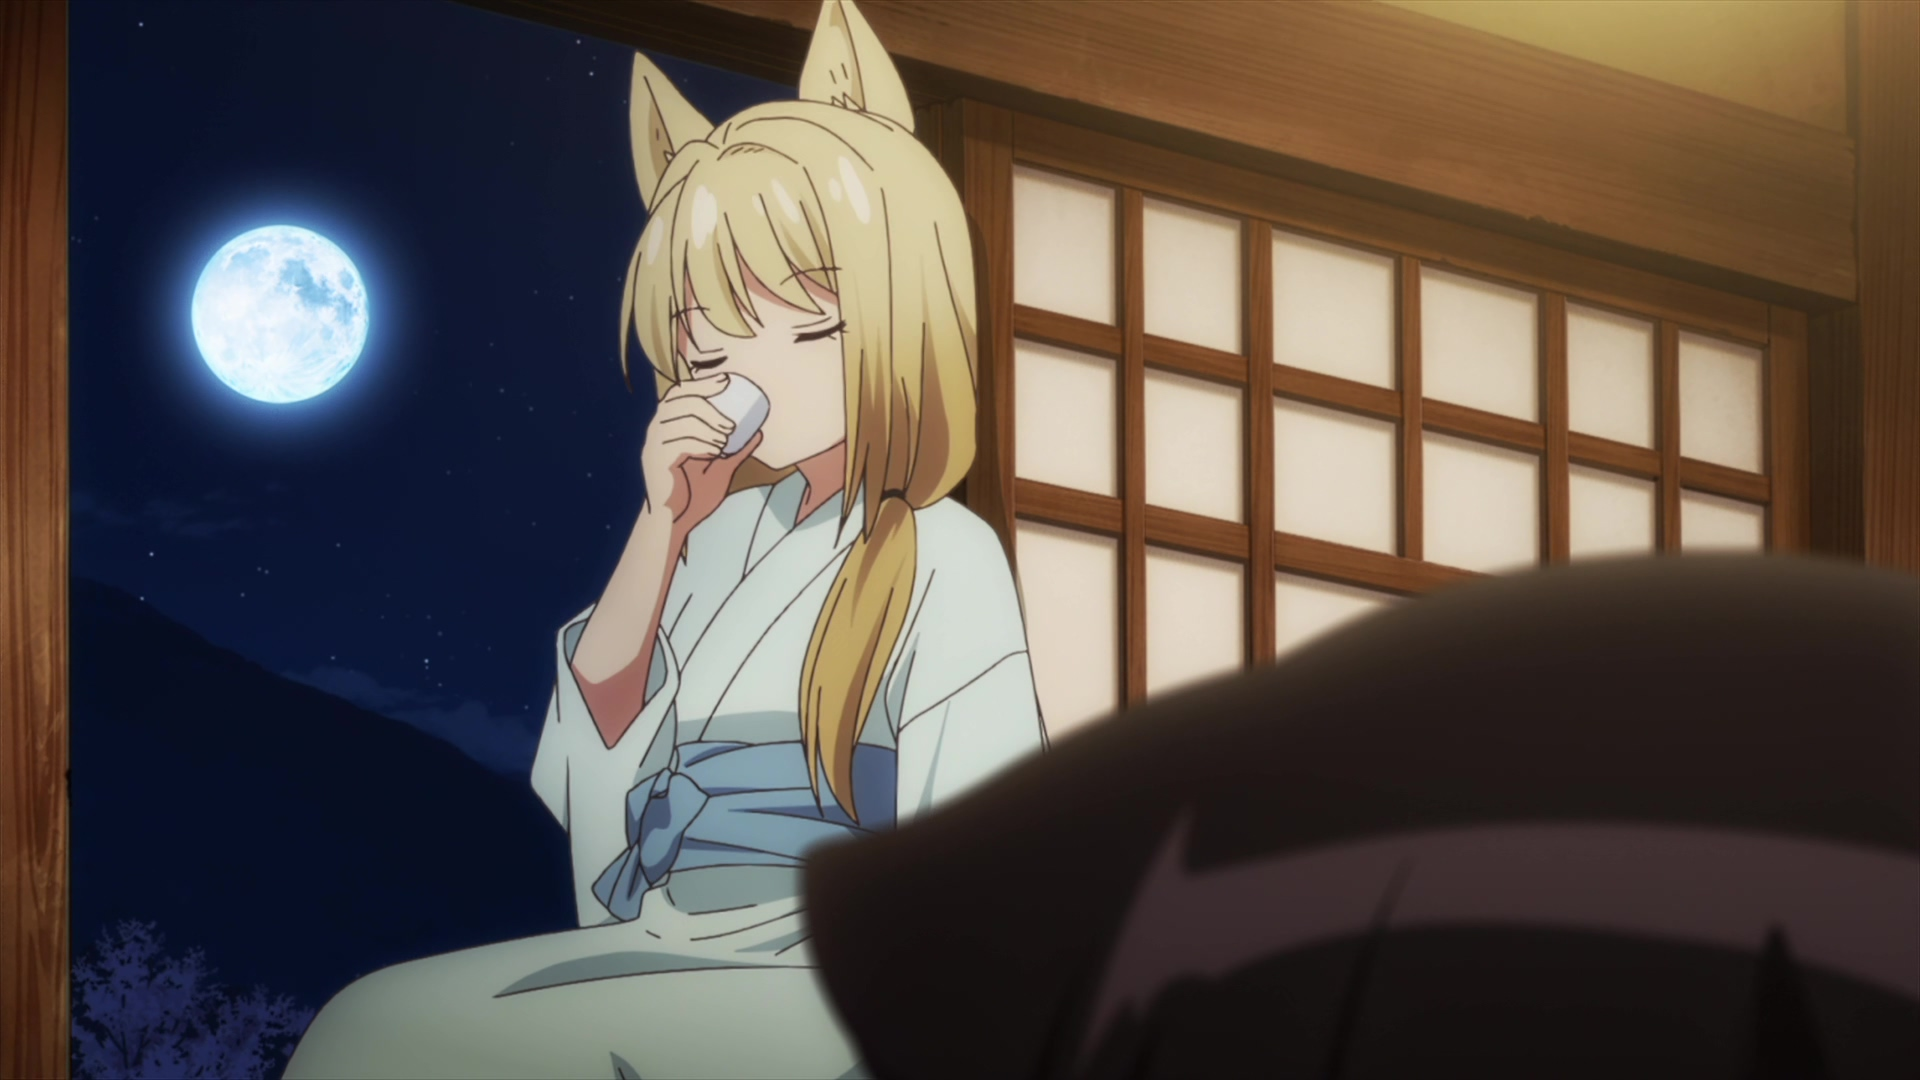桐: (282, 1, 1044, 1080)
